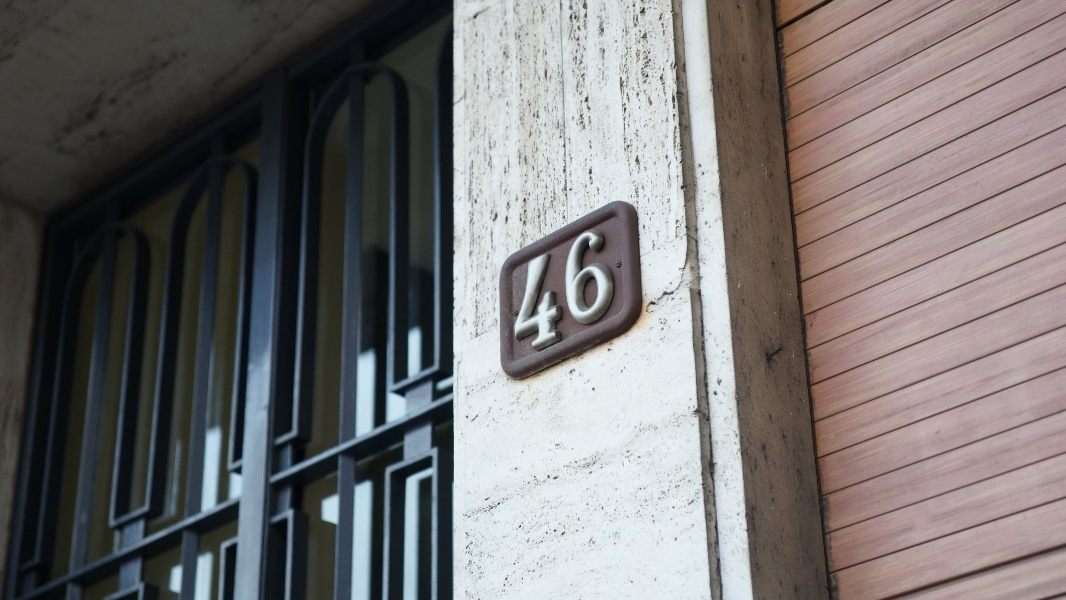text: (609, 217, 625, 364), (513, 217, 528, 364), (529, 217, 544, 364), (545, 217, 560, 364), (561, 217, 576, 364), (577, 217, 592, 364), (593, 217, 608, 364), (510, 217, 512, 364)
